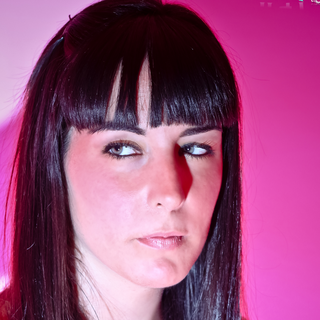eye: (99, 139, 147, 164), (179, 140, 215, 164)
